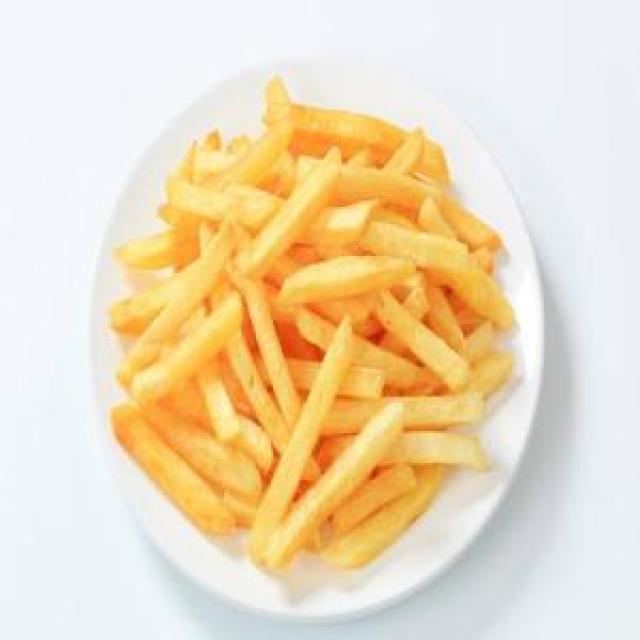French Fries: (102, 74, 523, 576)
